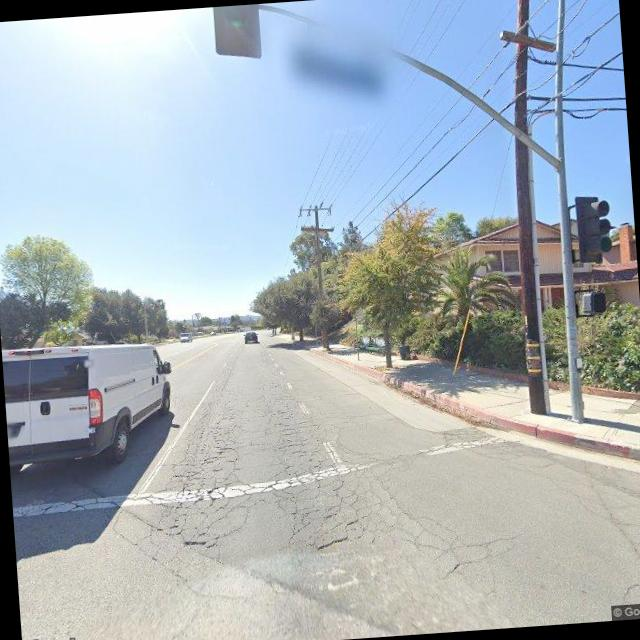crack: (103, 387, 469, 600)
